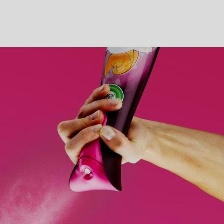aerosol_cans: (61, 1, 174, 198)
